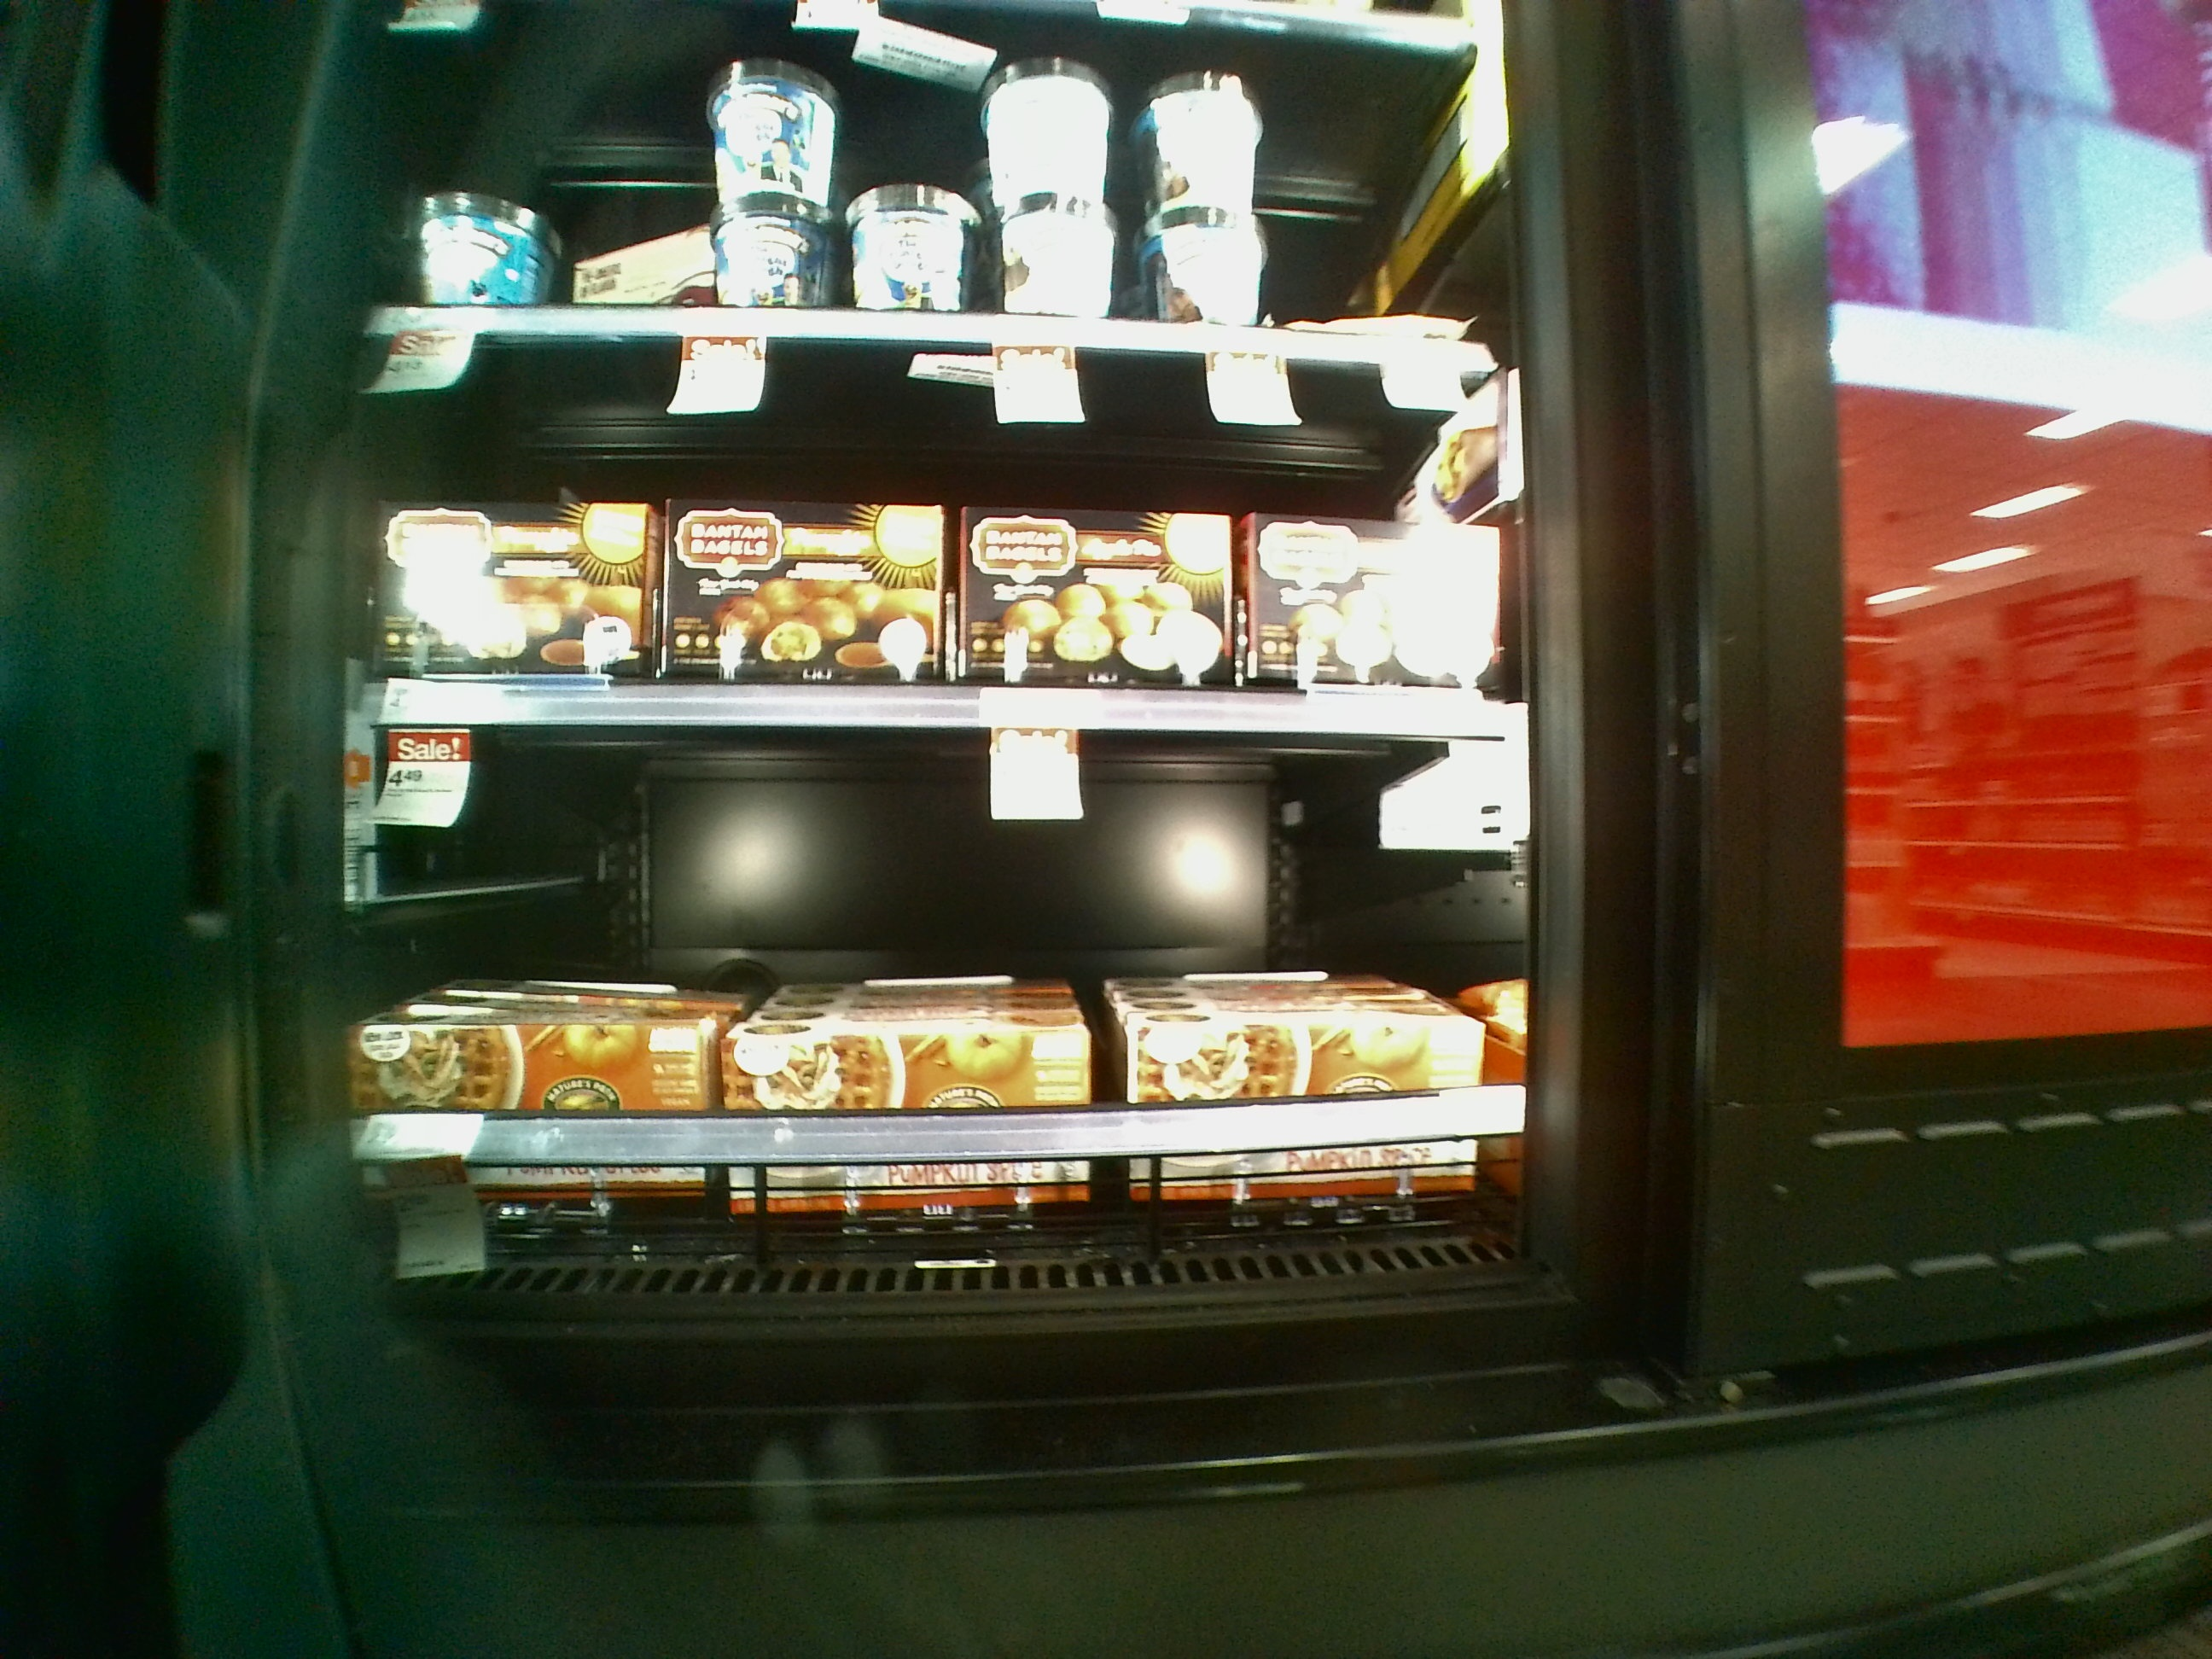shelf: (296, 713, 1571, 1328), (308, 331, 1545, 748)
